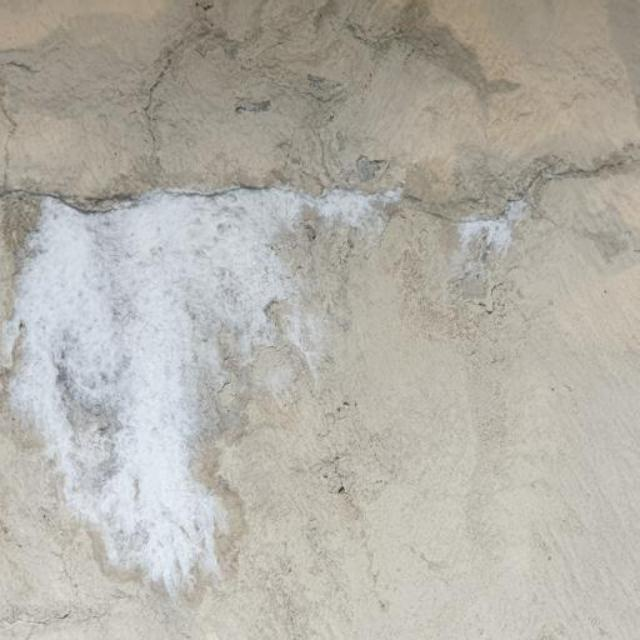D01: (0, 186, 401, 594), (2, 190, 281, 593), (458, 194, 529, 251)
